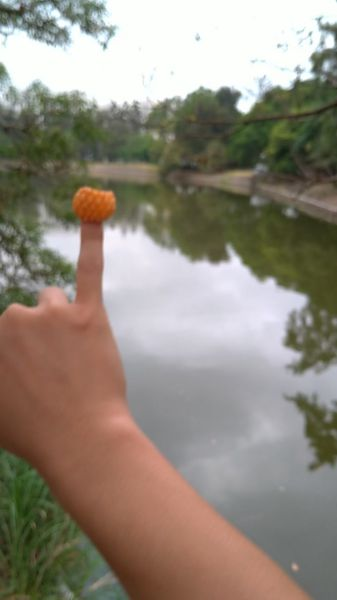eggs: (73, 187, 116, 222)
